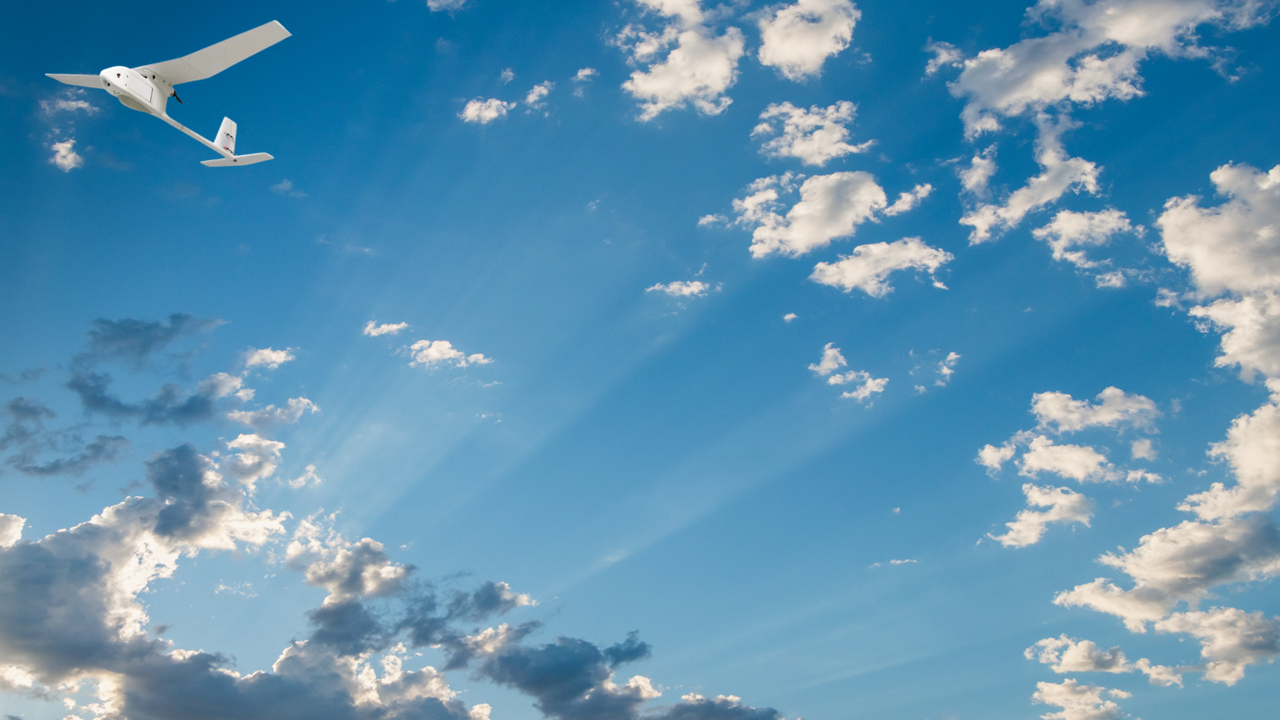military drone: (44, 19, 292, 167)
